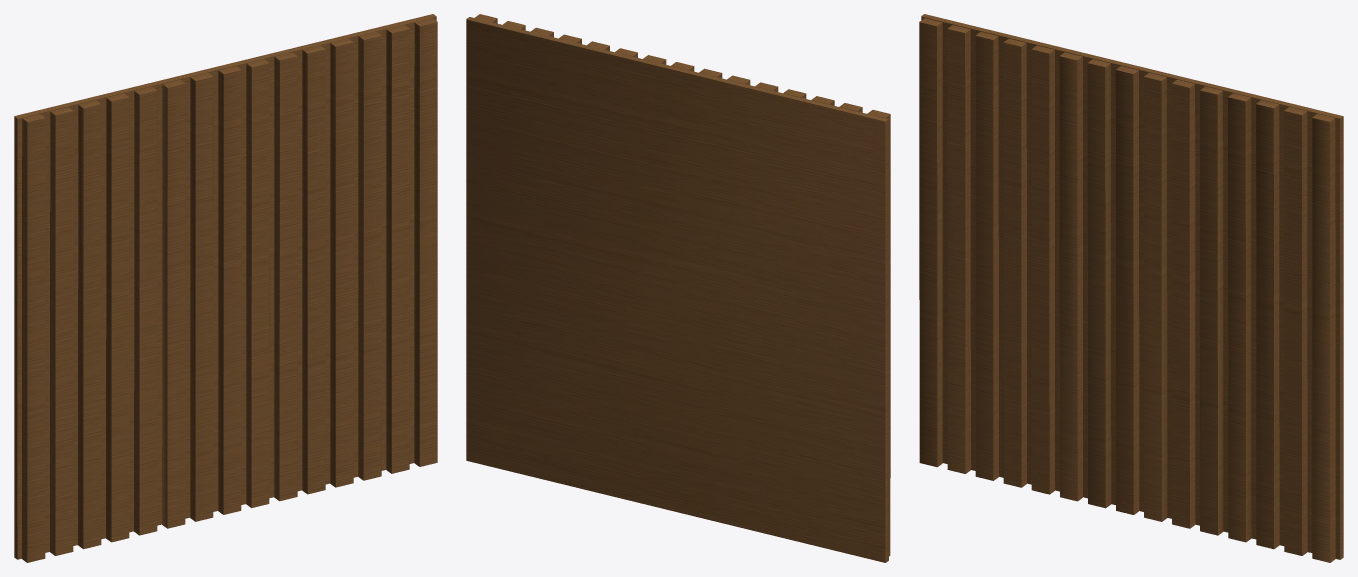
3 renders of one model, left to right at view 1: azimuth 30°, elevation 25°; view 2: azimuth 150°, elevation 25°; view 3: azimuth 330°, elevation 25°, orthographic.
Visible parts, largest first — view 1: C-skp703B; view 2: C-skp703B; view 3: C-skp703B.
Boxes of the visible parts, x1,y1,x2,y2 form: C-skp703B: (14,14,437,562); C-skp703B: (466,14,890,562); C-skp703B: (919,14,1343,562).
Size of the model in its own units: 0.6028 by 0.6062 by 0.0234.
1 material, 1 textured.
